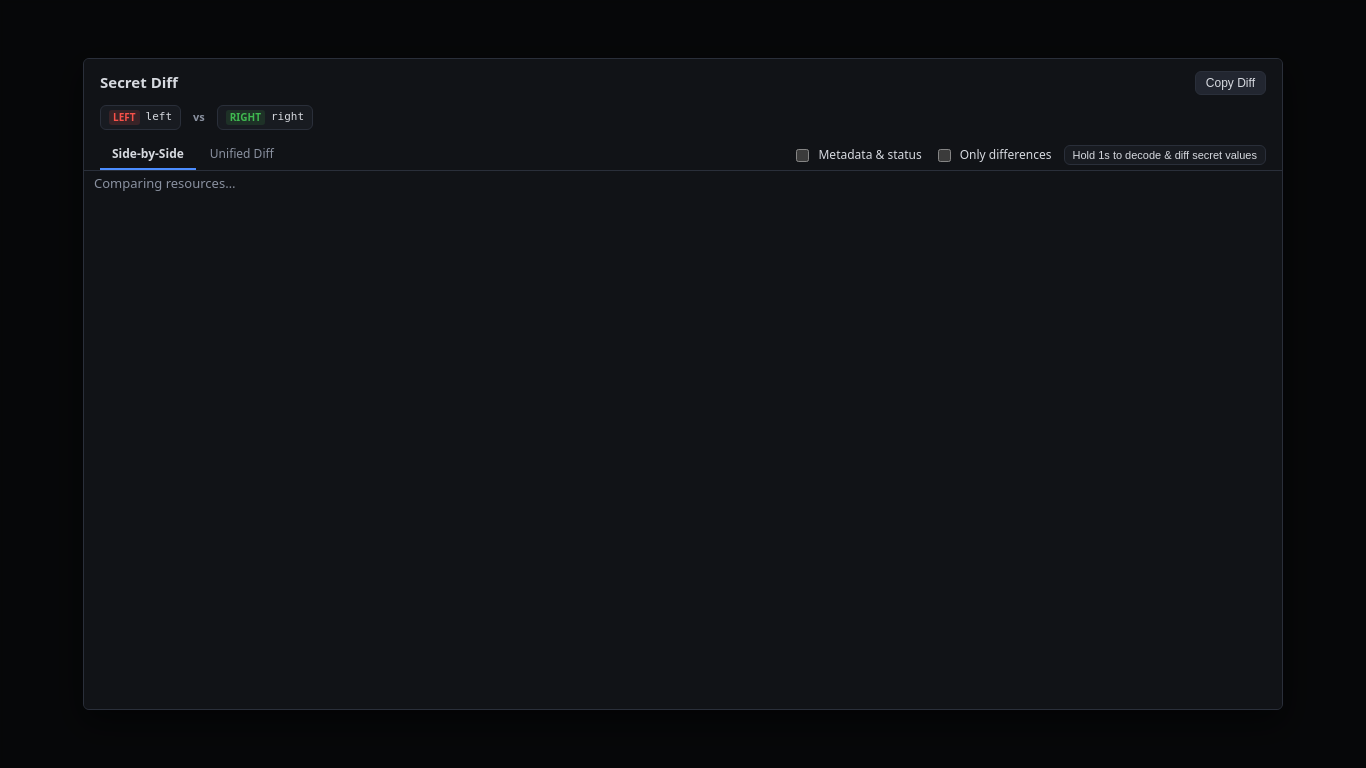
Test: Phase 2 Wave 2 UI Components › <DiffModal /> › 04-04: Secret resources show hold-to-reveal button that decodes and diffs secret values
Step 1. Press the mouse on the button with test id "reveal-secrets-btn" → (1165, 155), box [1064,145,1266,165]
Wait 1000 ms
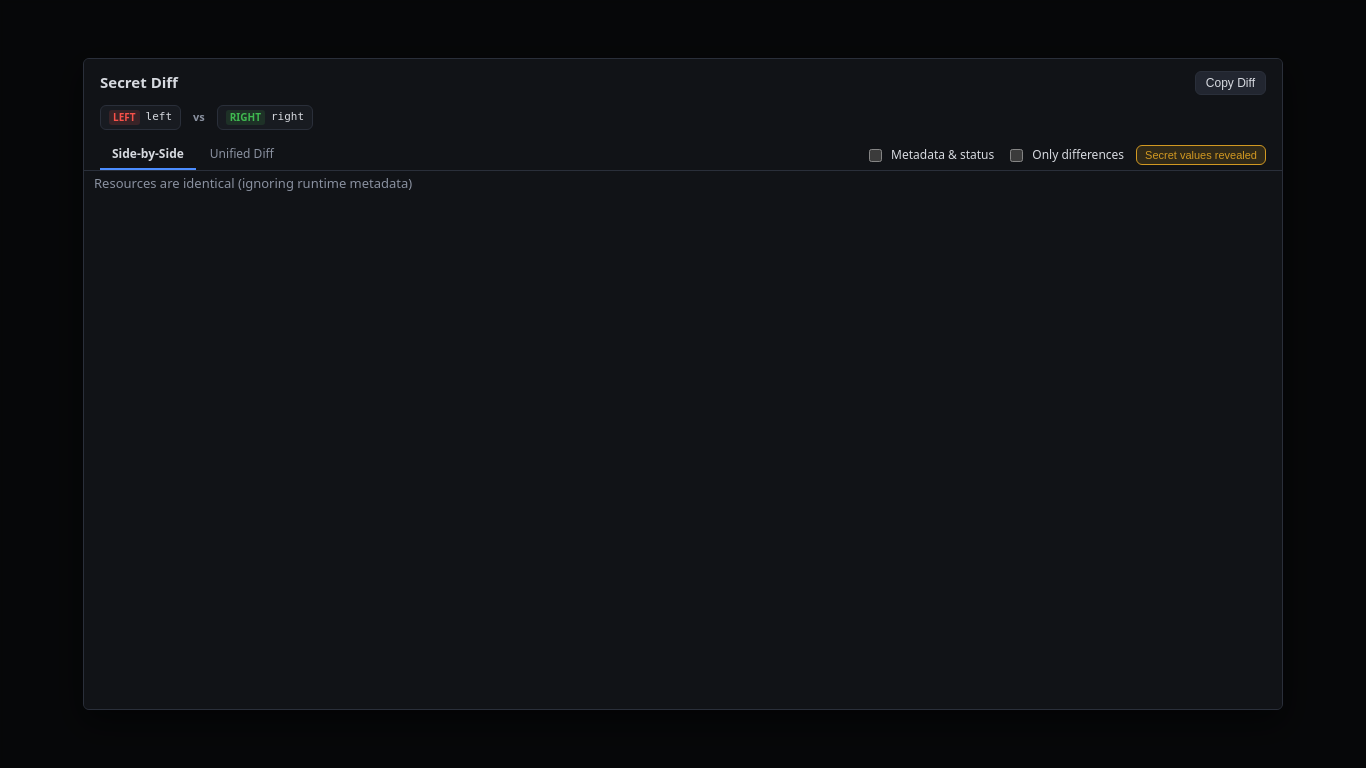
Now the button with test id "reveal-secrets-btn" reads "Secret values revealed", box [1136,145,1266,165]
